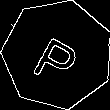P_NE: (29, 24, 86, 85)
